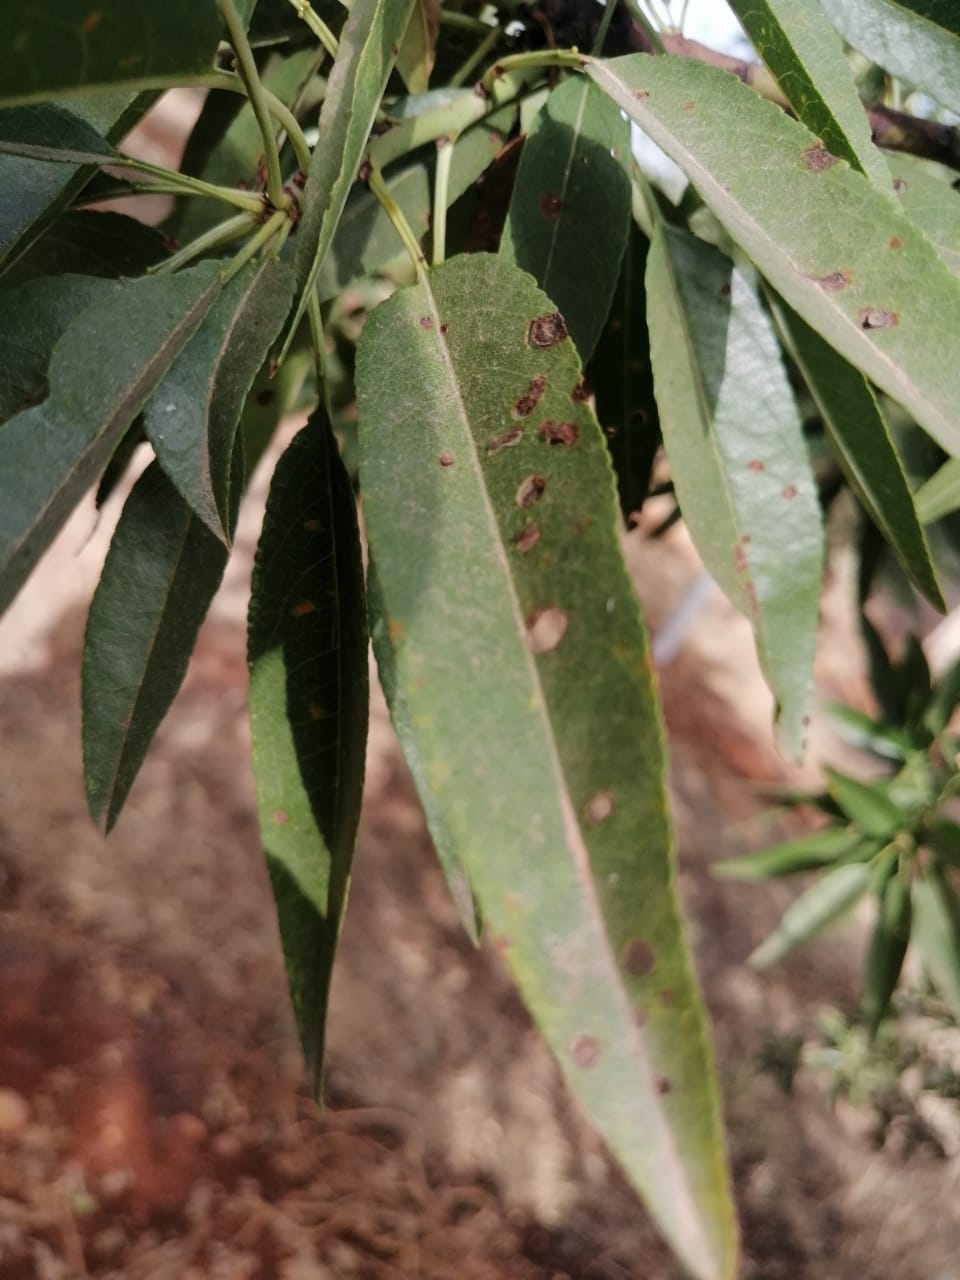coryneum: (348, 250, 751, 1280), (588, 42, 960, 452)
